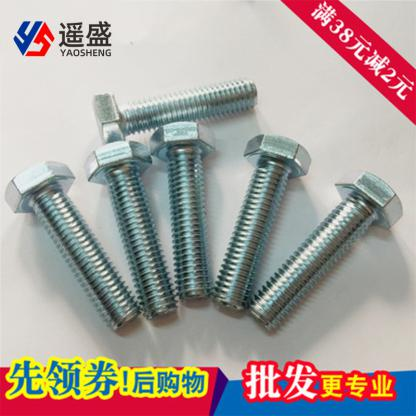FOD: (242, 168, 405, 335), (4, 158, 141, 335), (208, 130, 313, 312), (80, 138, 178, 321), (148, 121, 216, 308), (90, 75, 260, 149)
